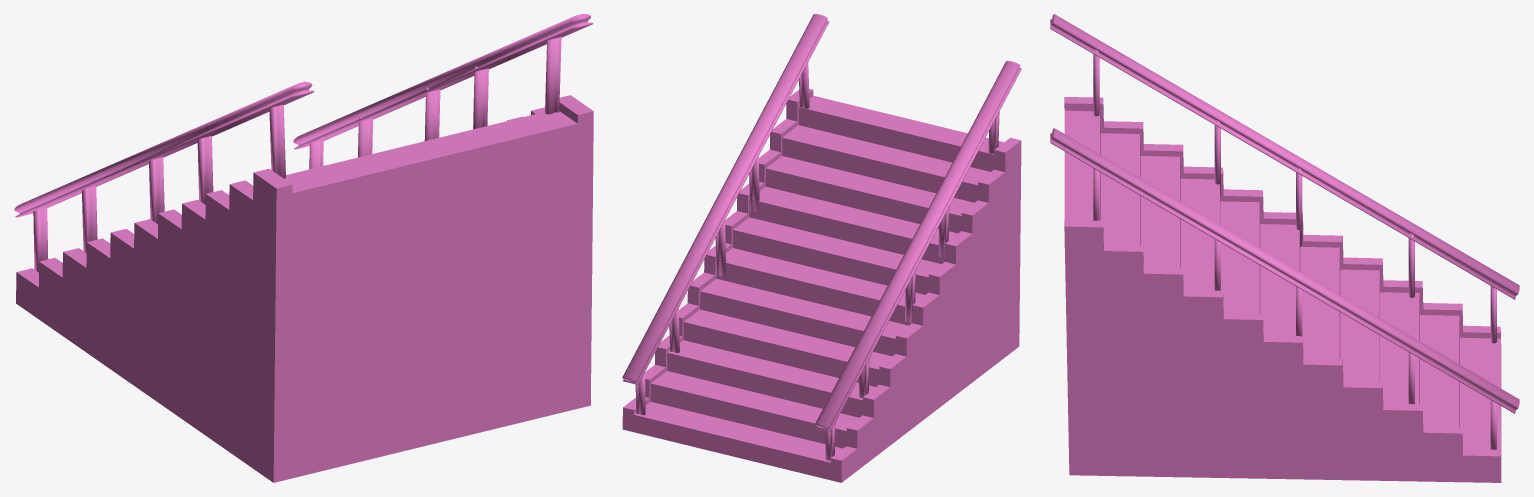
Rendered from EscadaLow.fbx.
3 renders of one model, left to right at view 1: azimuth 30°, elevation 25°; view 2: azimuth 150°, elevation 25°; view 3: azimuth 270°, elevation 25°, orthographic. The views are drawn at different scales.
Visible parts, largest first — view 1: Plane.024; view 2: Plane.024; view 3: Plane.024.
Part boxes in pixels (x1,y1,x2,y2): Plane.024: (14,14,593,482); Plane.024: (622,14,1021,482); Plane.024: (1050,14,1519,482).
Size of the model in its own units: 538 by 667 by 823.
